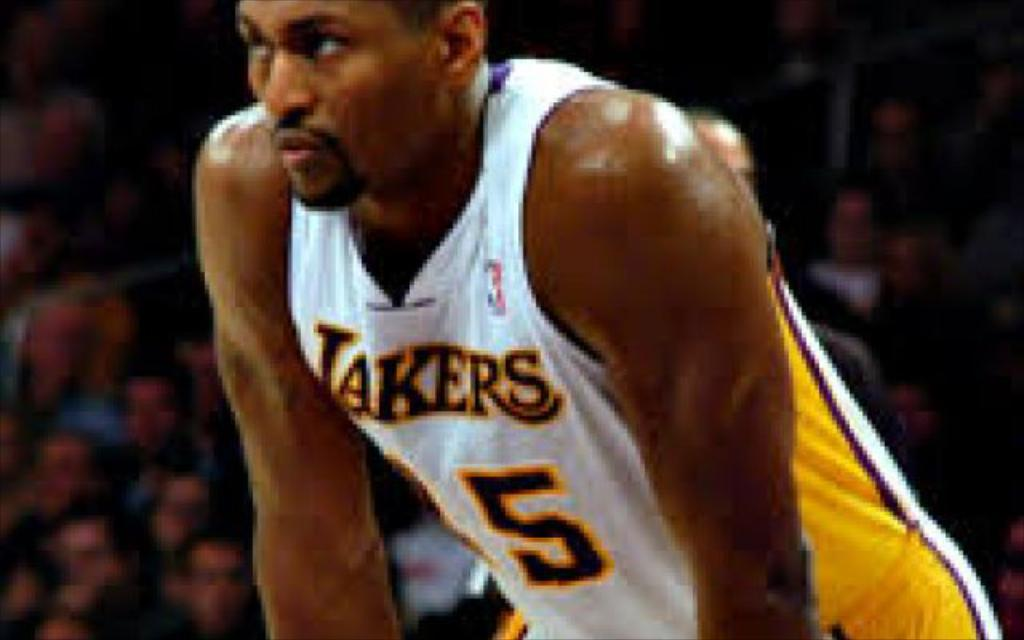person: (63, 163, 183, 268)
